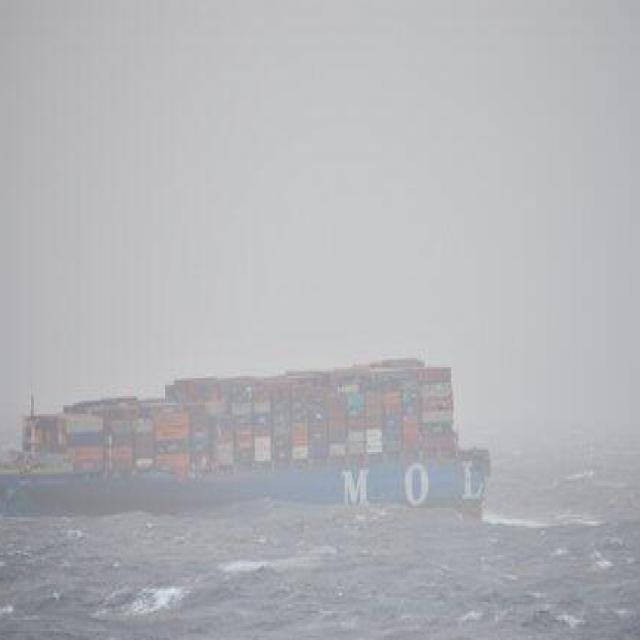cargoship: (0, 356, 488, 517)
